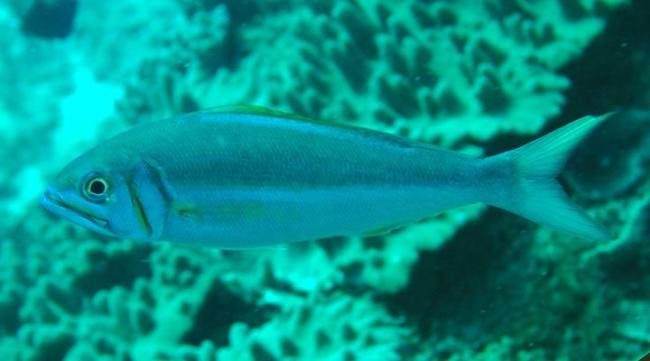fish: (45, 104, 610, 249)
